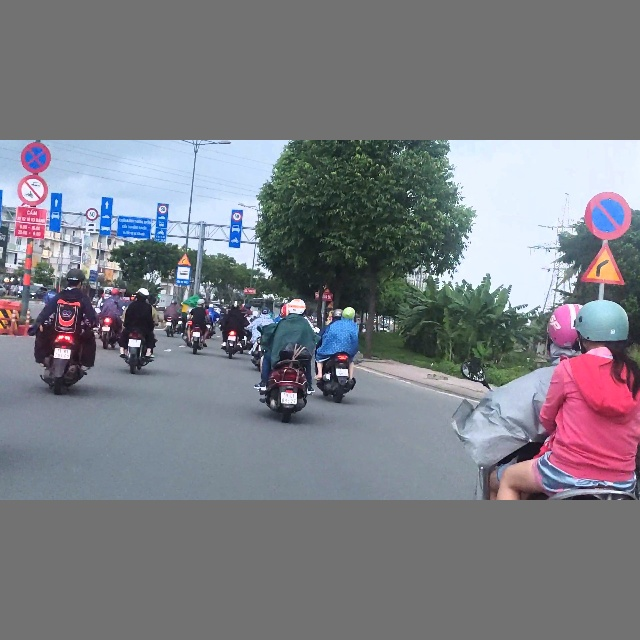I.434a: (176, 264, 191, 285)
P.111: (17, 174, 48, 205)
P.127*50: (232, 211, 242, 221), (158, 205, 168, 214)
P.127*60: (86, 208, 98, 220)
P.130: (20, 142, 51, 173)
P.131a: (583, 190, 632, 241)
S.505a*Xe tai va cong: (85, 222, 96, 233)
W.201b: (578, 241, 625, 285), (176, 253, 192, 266)
